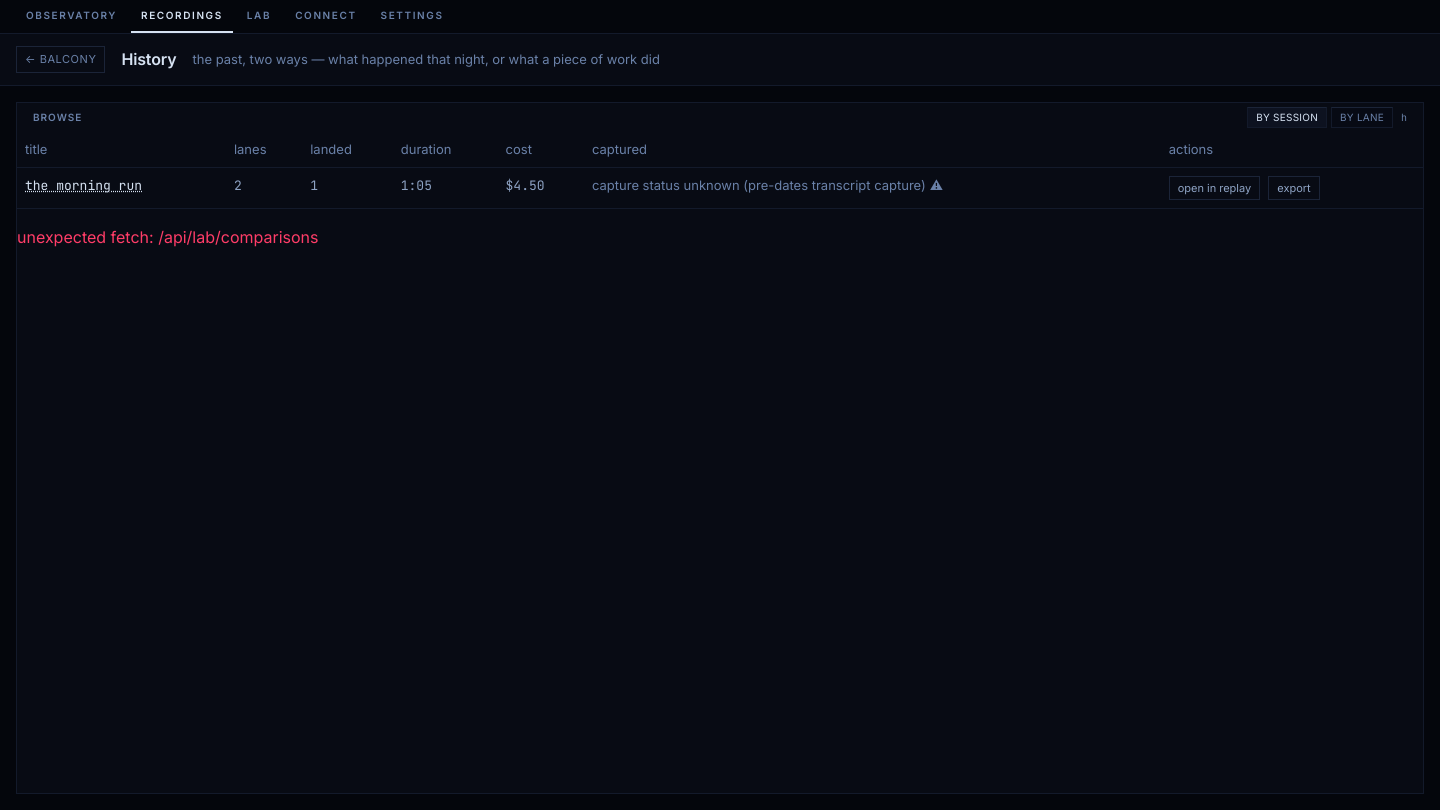
Test case: the lane axis (S4 — by lane) › says the honest gap when the index cannot be read at all — and the session axis is unaffected
This screenshot has width=1440, height=810.
Expected: the table with test id "recordings-table" is shown, [17, 132, 1423, 209]
Click the button with test id "history-representation-lane". click: click(1362, 117)
box: [1331, 106, 1393, 128]
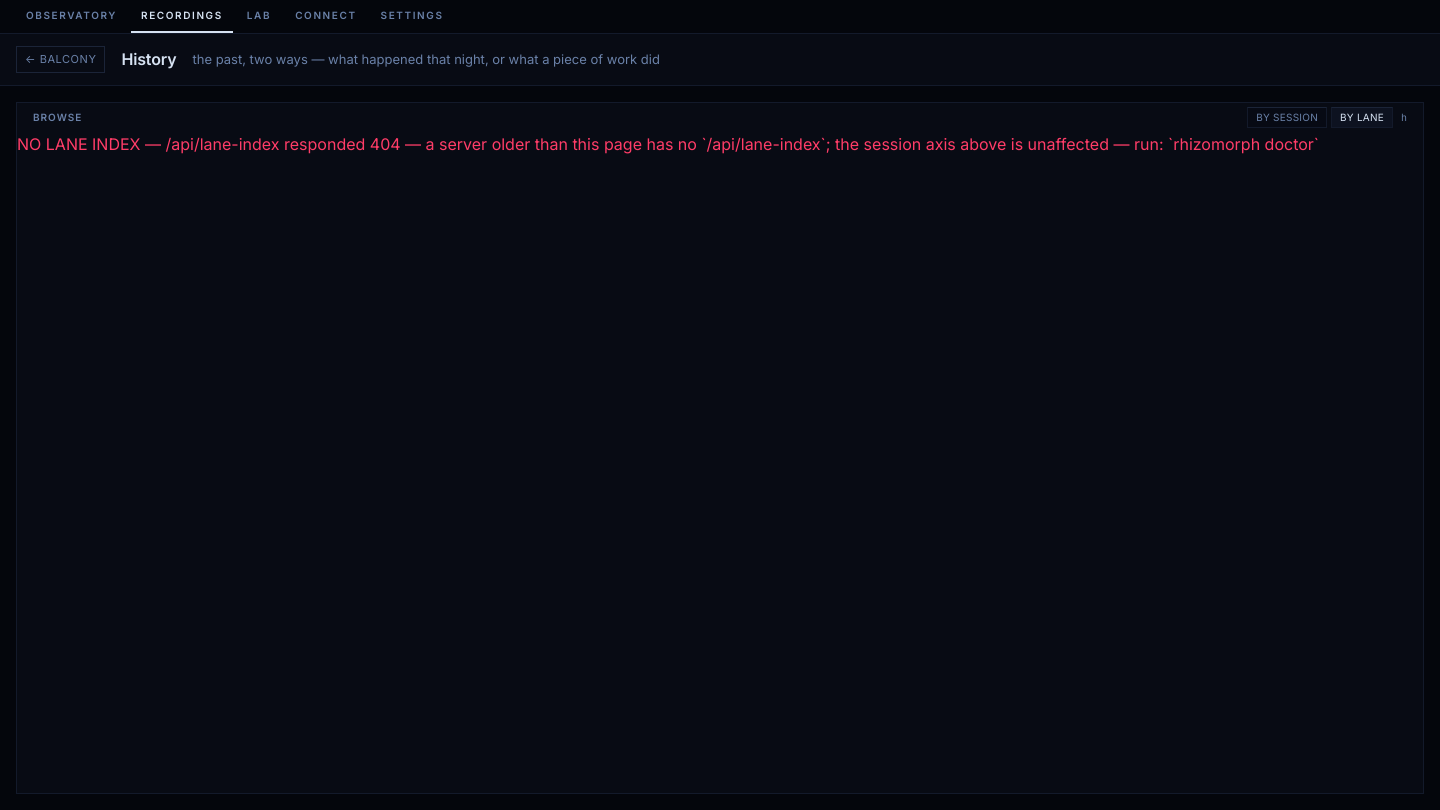
Result: the message with test id "history-lanes-error" shows "NO LANE INDEX" at [17, 134, 166, 154]
Click the button with test id "history-representation-session". click: click(1287, 117)
box: [1247, 106, 1327, 128]
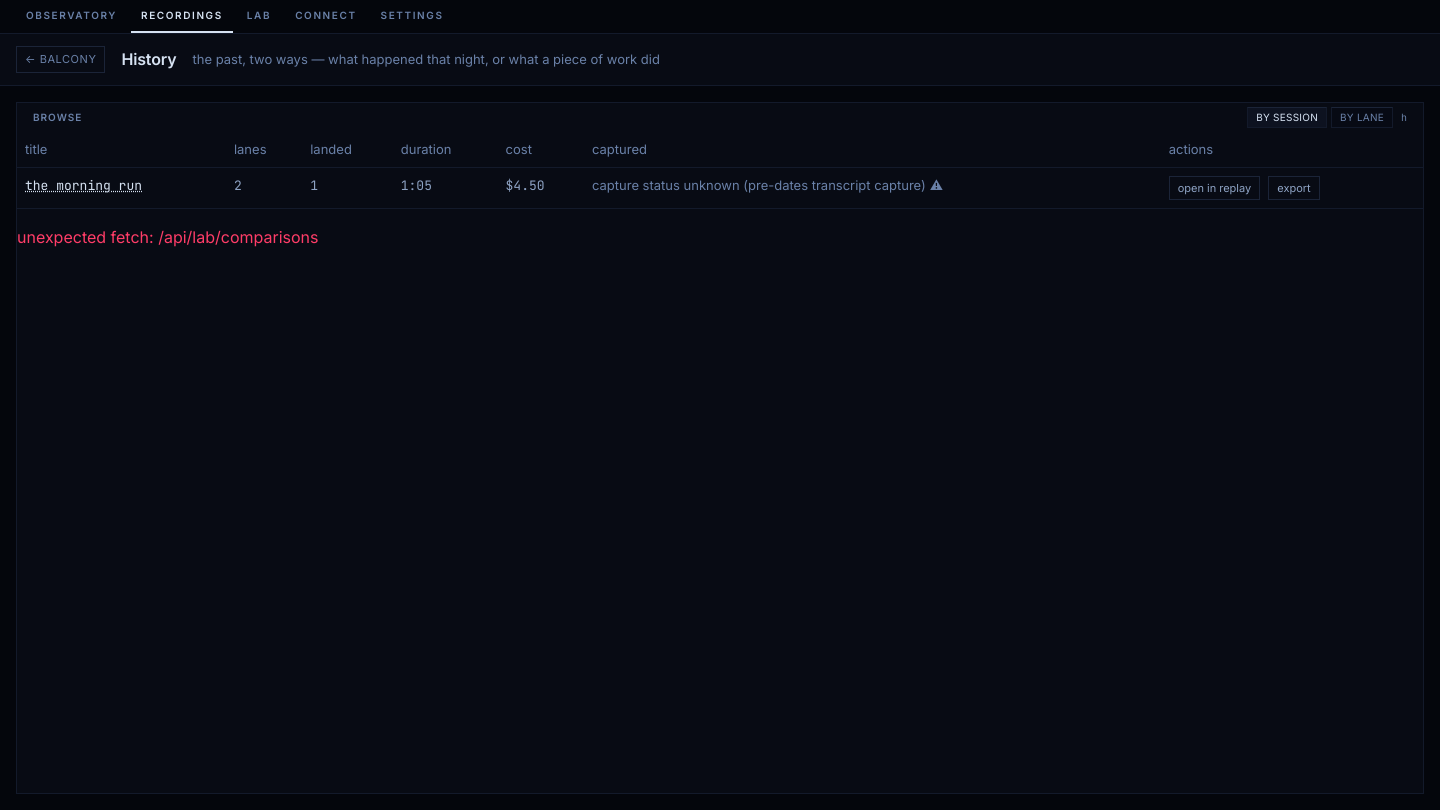
Result: the table with test id "recordings-table" is shown at [17, 132, 1423, 209]
